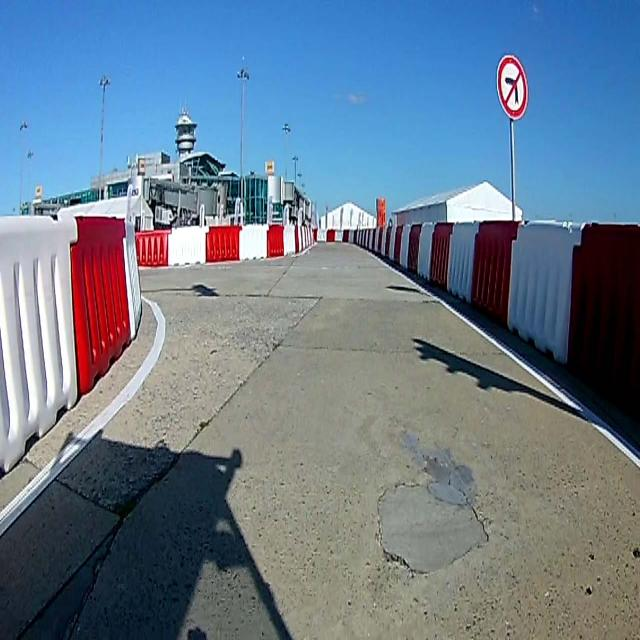soladonulmez: (497, 54, 529, 123)
